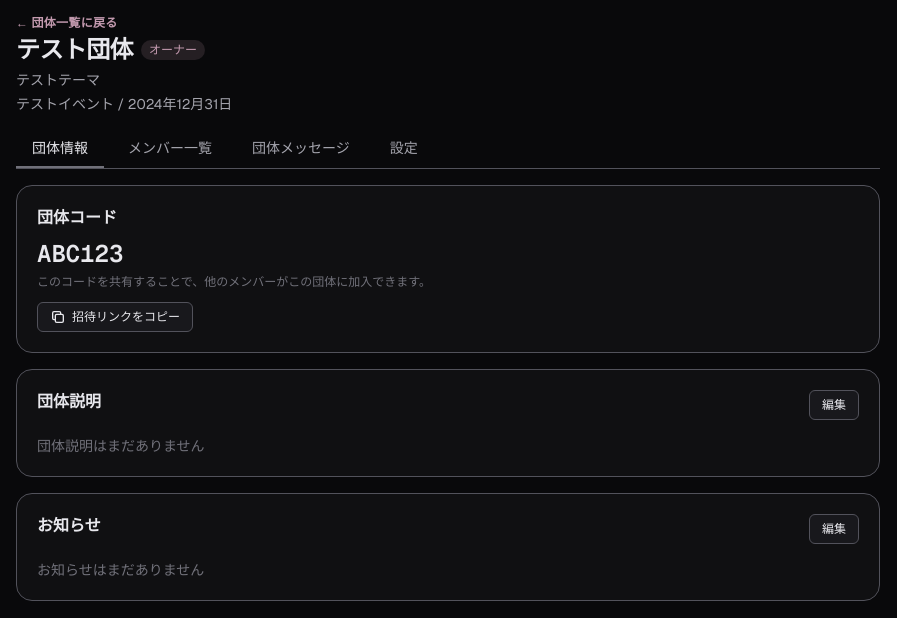
GroupDetailPage › オーナーの場合、解散と譲渡ボタンを表示する
Expected: the heading "テスト団体" is shown, top-left (16, 34), bottom-right (133, 66)
Click the text "設定" at (404, 148), box top-left (390, 139), bottom-right (418, 157)
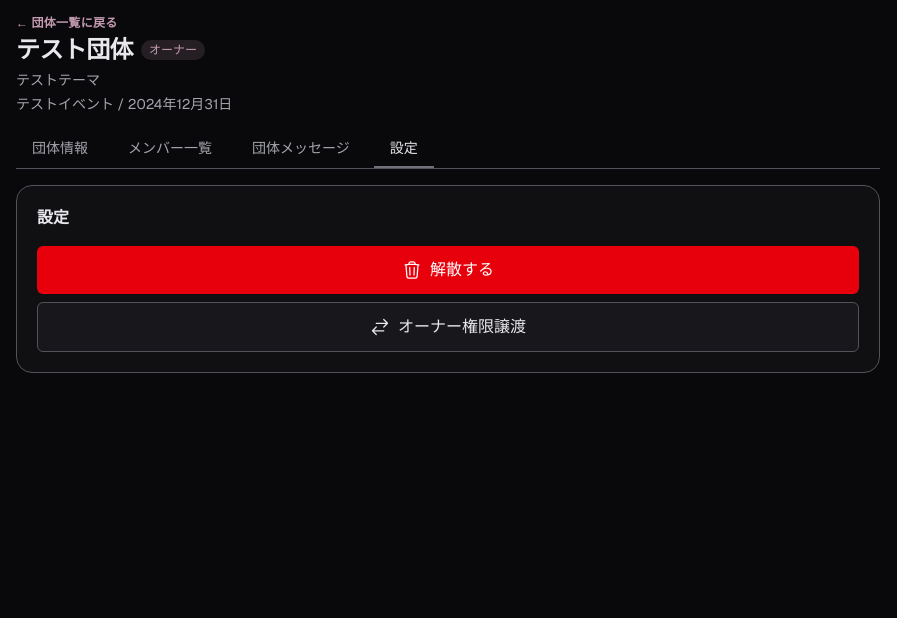
Expected: the button "解散する" is shown, top-left (37, 246), bottom-right (859, 294)
Expected: the button "オーナー権限譲渡" is shown, top-left (37, 302), bottom-right (859, 352)
